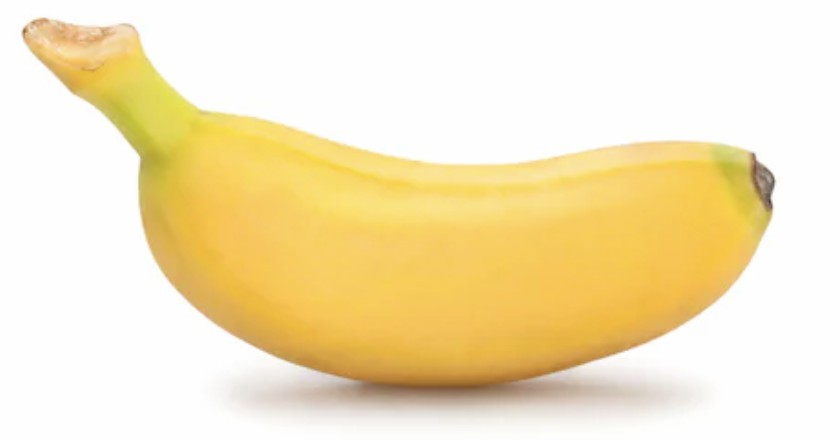fresh_banana: (23, 15, 775, 389)
